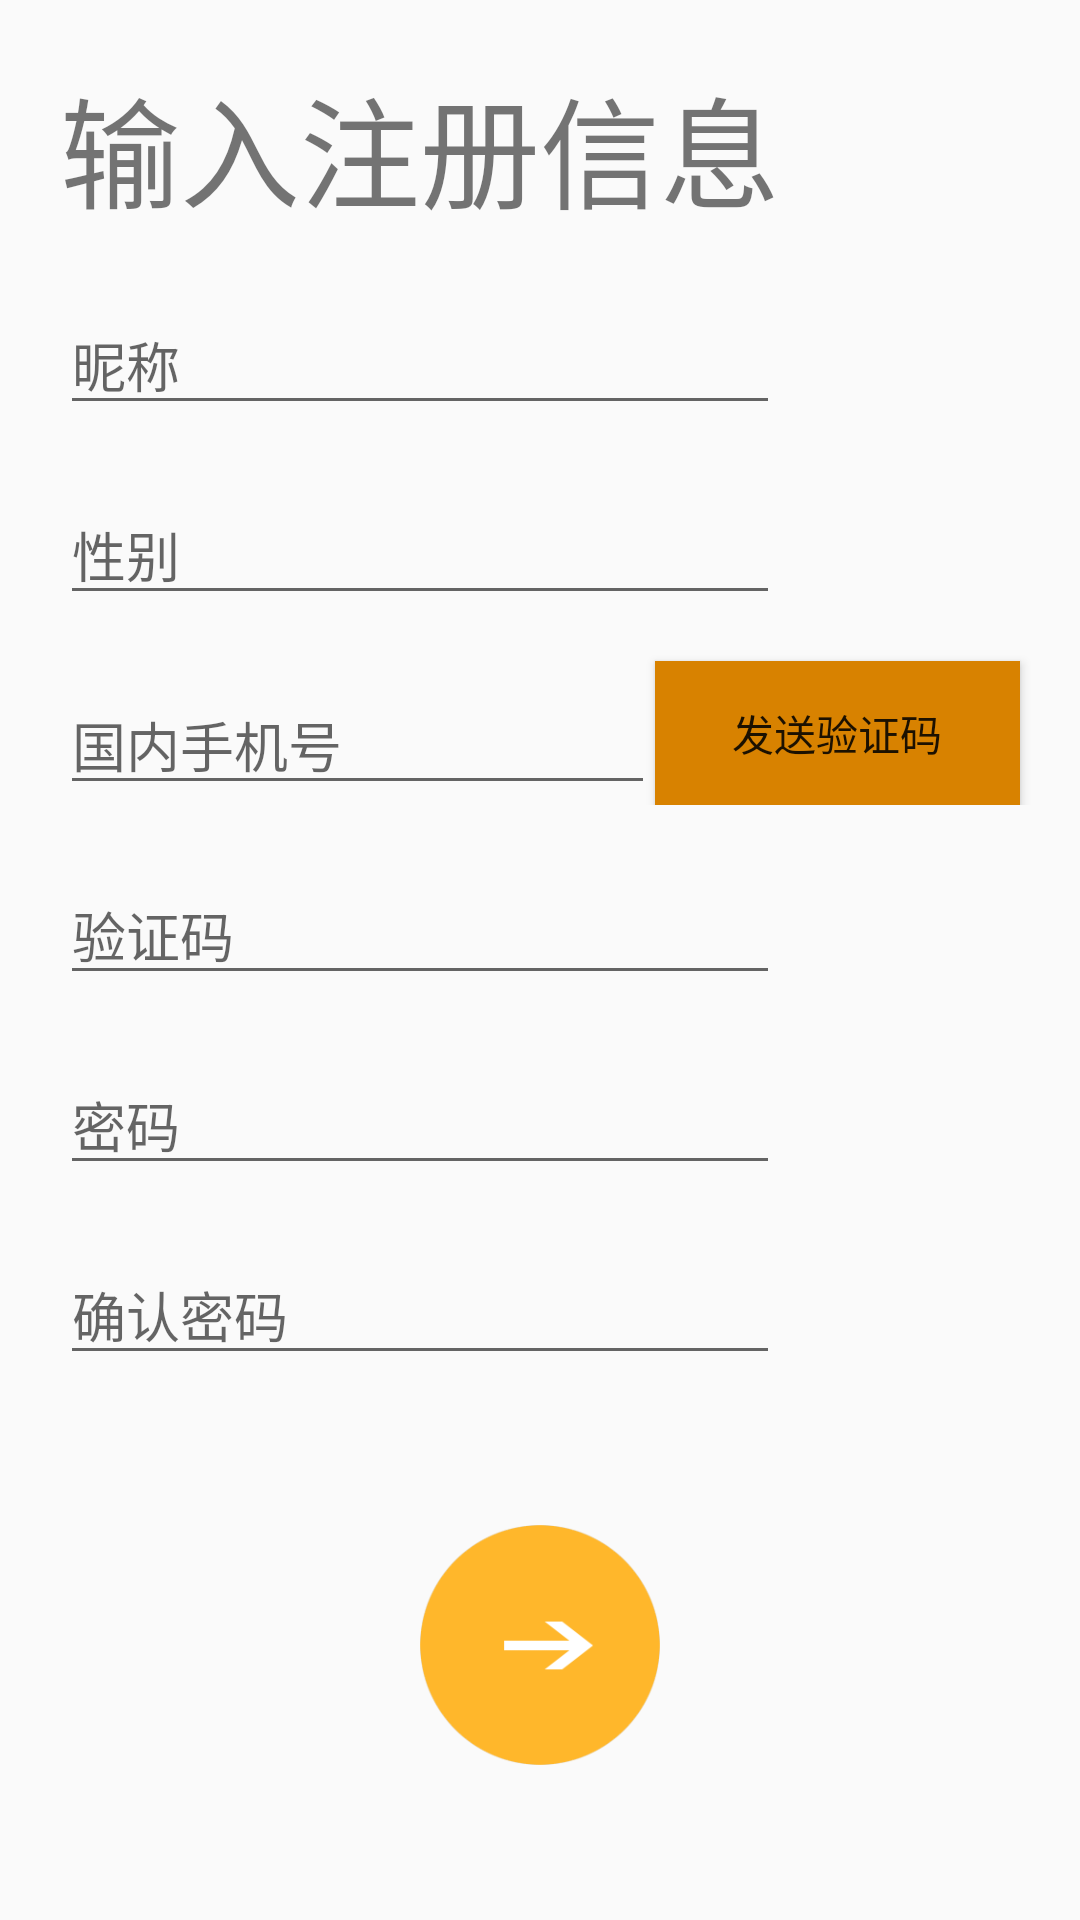

Screen size 1080x1920. Icon name, then its center in pixels as (x,y):
loging: (540,1645)
